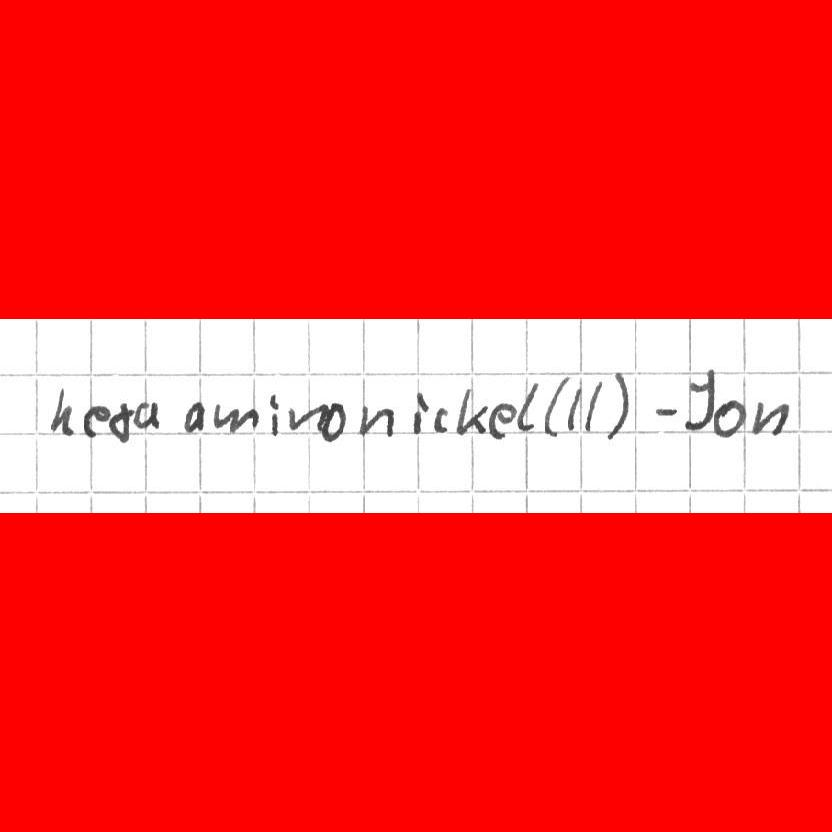Char: (682, 366, 714, 437), (603, 371, 633, 440), (751, 396, 790, 439), (457, 383, 487, 437), (213, 402, 257, 435), (49, 384, 75, 438), (356, 403, 393, 440), (516, 380, 541, 434), (544, 375, 565, 439), (714, 397, 744, 441), (286, 403, 329, 432), (320, 400, 346, 442), (108, 398, 131, 443), (582, 381, 602, 432), (489, 401, 514, 441), (133, 400, 160, 434), (82, 401, 105, 440), (566, 379, 582, 434), (182, 399, 206, 435), (412, 390, 430, 434), (268, 392, 282, 436), (653, 400, 679, 422), (432, 404, 451, 433)
